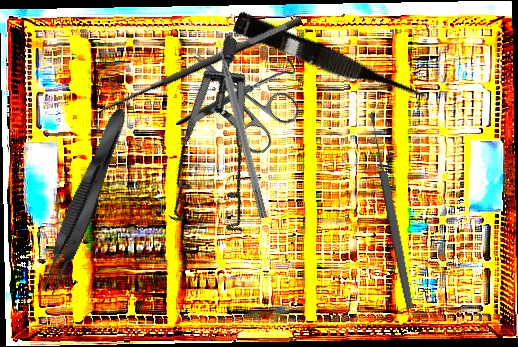Hook Surgical: (84, 12, 311, 136), (175, 53, 296, 130)
Iris Scissors: (172, 27, 306, 160)
Micro Scissor: (230, 10, 430, 114)
Pusher: (212, 28, 270, 219)
Speculum: (112, 34, 335, 259)
Surgical Spoon: (366, 110, 416, 311)
Tissue Forceps: (34, 103, 136, 299)
